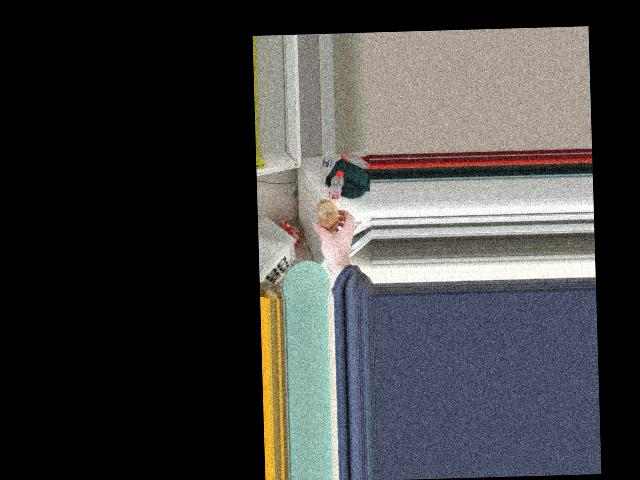sweet_potato: (312, 197, 341, 235)
